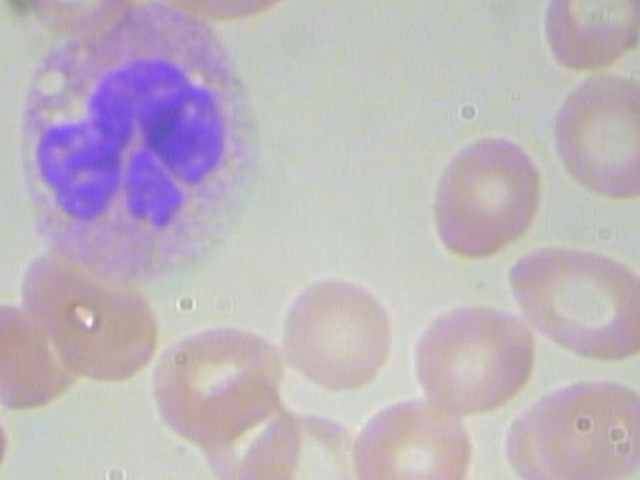RBC: (411, 124, 550, 267), (393, 296, 542, 427), (128, 318, 289, 437), (505, 240, 640, 366), (276, 260, 393, 399), (539, 62, 640, 208), (529, 379, 640, 480), (510, 0, 640, 78), (137, 0, 317, 33)
WBC: (0, 0, 277, 292)
